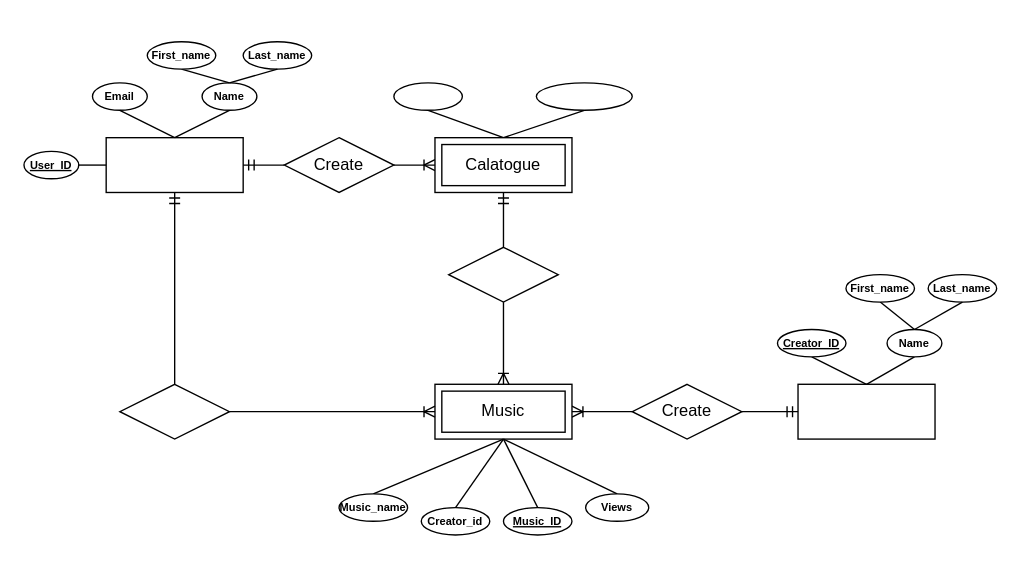
This 1021x577 diagram has some shape labels left out. Here are the shapes that lost their labels. From the top down, the centre of each, then its label:
At pixel 427 96: "Catalogue_ID".
At pixel 583 96: "Catalogue_Name".
At pixel 174 164: "User".
At pixel 502 274: "add".
At pixel 174 411: "listen".
At pixel 866 411: "Creator".
